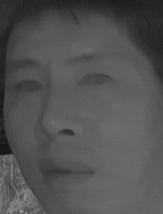eye: (76, 68, 114, 93), (11, 76, 47, 98)
mouth: (37, 154, 93, 188)
